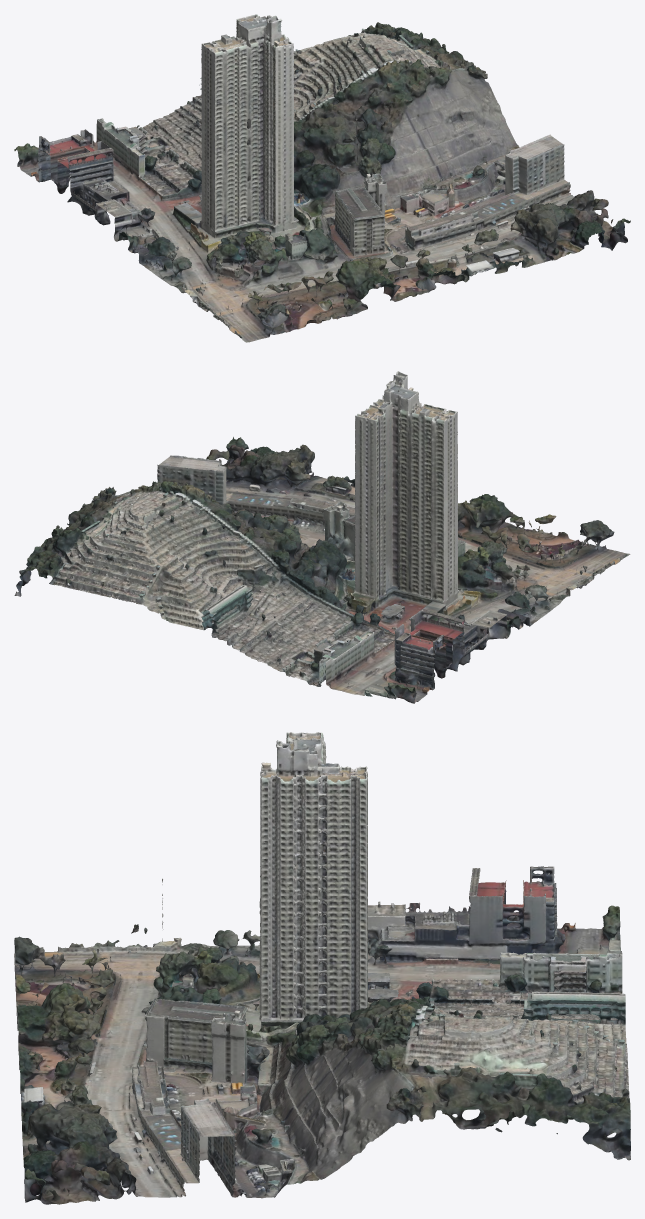
File: kowloon.gltf
The picture shows the model from 3 angles, top to bottom: view 1: azimuth 30°, elevation 25°; view 2: azimuth 150°, elevation 25°; view 3: azimuth 270°, elevation 25°; orthographic projection. The views are drawn at different scales.
Parts seen in each view (by area): view 1: Object_2, Object_4, Object_3, Object_6, Object_5, Object_7, Object_9, Object_8, Object_10; view 2: Object_5, Object_2, Object_4, Object_6, Object_3, Object_7, Object_9, Object_8, Object_10; view 3: Object_2, Object_3, Object_7, Object_8, Object_6, Object_9, Object_4, Object_5.
Boxes of the visible parts, x1,y1,x2,y2 form: Object_2: (14, 22, 630, 342); Object_4: (258, 37, 536, 294); Object_3: (294, 25, 620, 261); Object_6: (32, 21, 361, 332); Object_5: (142, 15, 378, 314); Object_7: (18, 16, 370, 340); Object_9: (190, 74, 477, 294); Object_8: (153, 14, 419, 299); Object_10: (295, 49, 463, 259); Object_5: (260, 371, 527, 670); Object_2: (14, 437, 630, 703); Object_4: (97, 407, 500, 624); Object_6: (285, 391, 607, 698); Object_3: (21, 438, 334, 594); Object_7: (277, 395, 624, 703); Object_9: (157, 501, 355, 644); Object_8: (212, 373, 494, 664); Object_10: (131, 503, 352, 595); Object_2: (14, 866, 630, 1204); Object_3: (24, 1013, 629, 1198); Object_7: (15, 732, 618, 1018); Object_8: (19, 744, 613, 1085); Object_6: (17, 735, 621, 1025); Object_9: (19, 992, 625, 1101); Object_4: (23, 767, 627, 1142); Object_5: (20, 732, 587, 1043).
Size of the model in its own units: 256 by 137 by 256.
Materials: 1 (1 with a texture image).
